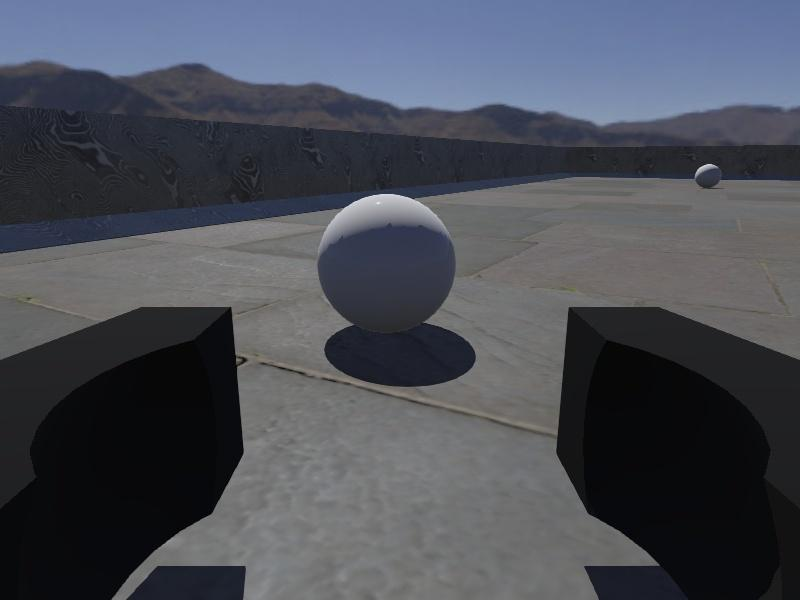white ball: (317, 192, 457, 335), (695, 162, 723, 189)
